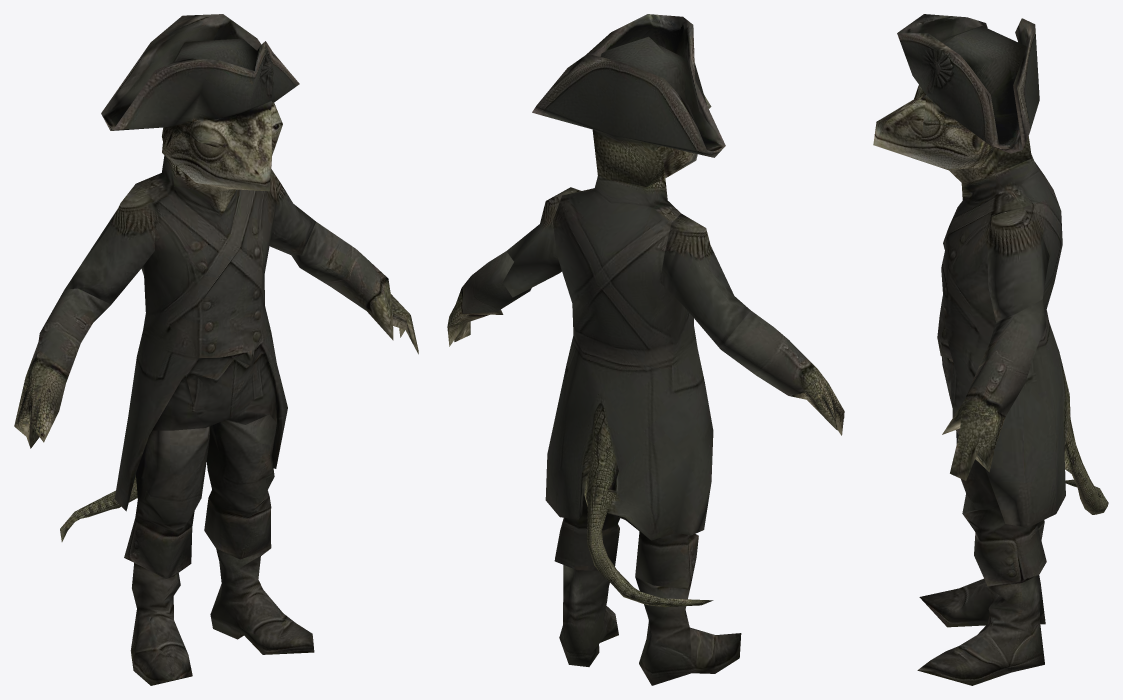
Rendered from infantry_mix_gibs.glb.
3 renders of one model, left to right at view 1: azimuth 30°, elevation 25°; view 2: azimuth 150°, elevation 25°; view 3: azimuth 270°, elevation 25°, orthographic.
Parts seen in each view (by area): view 1: Body.001, Hat.001, Upleg.R.001, Upleg.L.001, Head.001, Forarm.R.001, Leg.L.001, Arm.R.001, Forarm.L.001, Leg.R.001, Arm.L.001; view 2: Body.001, Hat.001, Arm.R.001, Leg.R.001, Forarm.R.001, Leg.L.001, Head.001, Arm.L.001, Forarm.L.001, Upleg.R.001, Upleg.L.001; view 3: Body.001, Hat.001, Forarm.L.001, Leg.L.001, Head.001, Upleg.L.001, Arm.L.001, Leg.R.001.
Part boxes in pixels (bbox=[...]): Body.001: bbox=[60, 155, 287, 541]; Hat.001: bbox=[101, 14, 299, 130]; Upleg.R.001: bbox=[124, 425, 218, 578]; Upleg.L.001: bbox=[204, 414, 276, 559]; Head.001: bbox=[162, 101, 282, 191]; Forarm.R.001: bbox=[14, 288, 110, 448]; Leg.L.001: bbox=[210, 548, 314, 654]; Arm.R.001: bbox=[64, 184, 155, 304]; Forarm.L.001: bbox=[291, 222, 418, 354]; Leg.R.001: bbox=[130, 562, 192, 685]; Arm.L.001: bbox=[269, 169, 315, 255]; Body.001: bbox=[545, 176, 713, 607]; Hat.001: bbox=[532, 14, 725, 157]; Arm.R.001: bbox=[660, 213, 750, 349]; Leg.R.001: bbox=[635, 577, 741, 685]; Forarm.R.001: bbox=[721, 310, 844, 435]; Leg.L.001: bbox=[559, 565, 618, 666]; Head.001: bbox=[592, 95, 711, 186]; Arm.L.001: bbox=[502, 187, 580, 297]; Forarm.L.001: bbox=[447, 251, 531, 346]; Upleg.R.001: bbox=[635, 531, 698, 589]; Upleg.L.001: bbox=[554, 494, 620, 570]; Body.001: bbox=[937, 154, 1108, 527]; Hat.001: bbox=[897, 14, 1039, 153]; Forarm.L.001: bbox=[942, 299, 1046, 480]; Leg.L.001: bbox=[917, 575, 1044, 685]; Head.001: bbox=[873, 85, 1031, 173]; Upleg.L.001: bbox=[956, 432, 1046, 586]; Arm.L.001: bbox=[987, 205, 1049, 321]; Leg.R.001: bbox=[919, 522, 1045, 627].
Bounding box in the file's own units: 0.6491 × 0.9789 × 0.3349.
2 materials, 1 textured.
